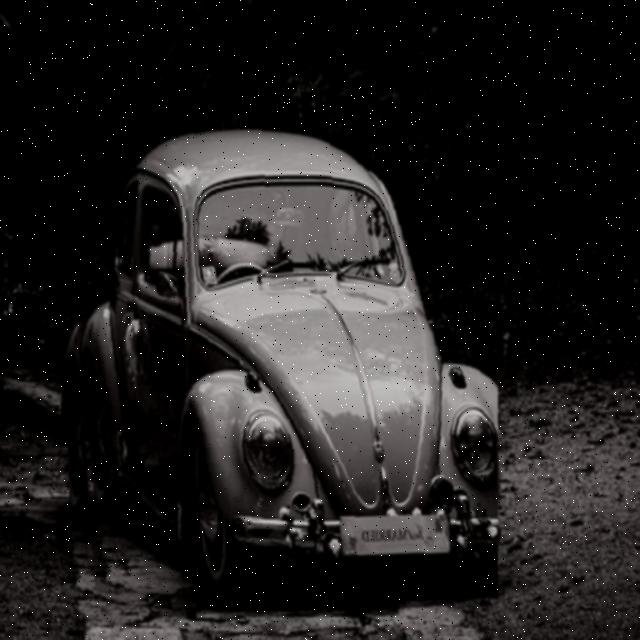car: (65, 130, 499, 600)
